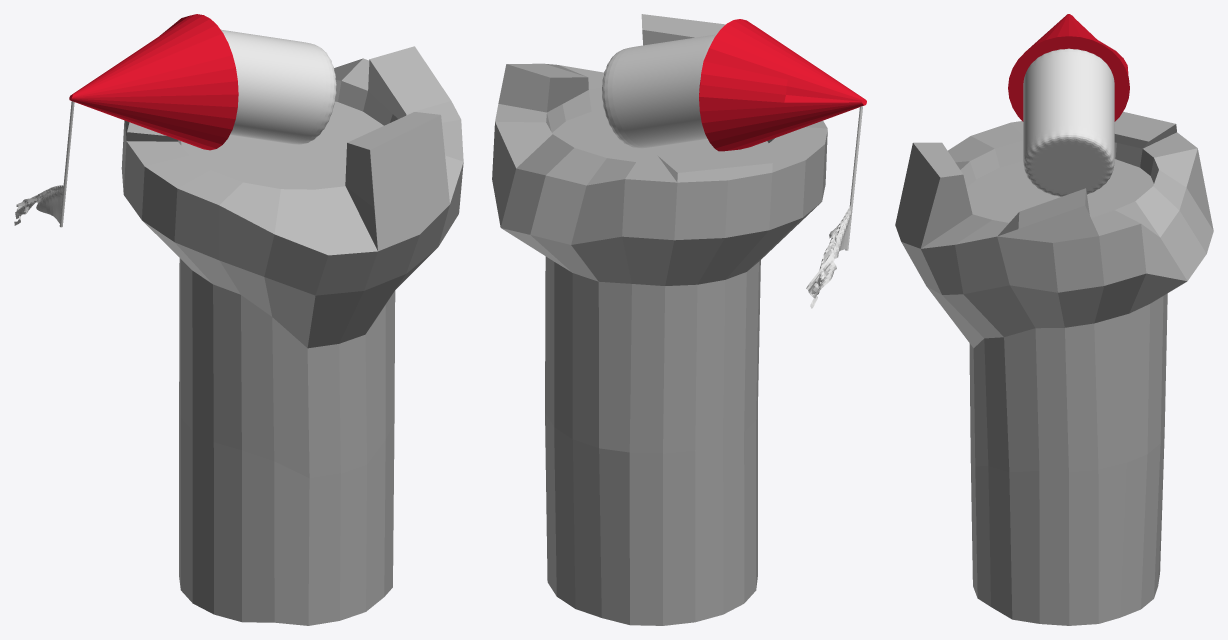
The model's file is TowerD4.fbx.
The picture shows the model from 3 angles, left to right: view 1: azimuth 30°, elevation 25°; view 2: azimuth 150°, elevation 25°; view 3: azimuth 270°, elevation 25°; orthographic projection. The views are drawn at different scales.
Visible parts, largest first — view 1: Cylinder, Cone, Cylinder.001, Plane.002; view 2: Cylinder, Cone, Cylinder.001, Plane.002; view 3: Cylinder, Cylinder.001, Cone.
Part boxes in pixels (x1,y1,x2,y2): Cylinder: (121,46,463,625); Cone: (69,14,238,150); Cylinder.001: (221,29,336,144); Plane.002: (14,185,63,225); Cylinder: (492,14,827,625); Cone: (699,19,866,151); Cylinder.001: (602,34,716,148); Plane.002: (806,204,851,308); Cylinder: (895,111,1213,625); Cylinder.001: (1023,48,1114,196); Cone: (1008,14,1129,121).
Size of the model in its own units: 1080 by 1629 by 908.
